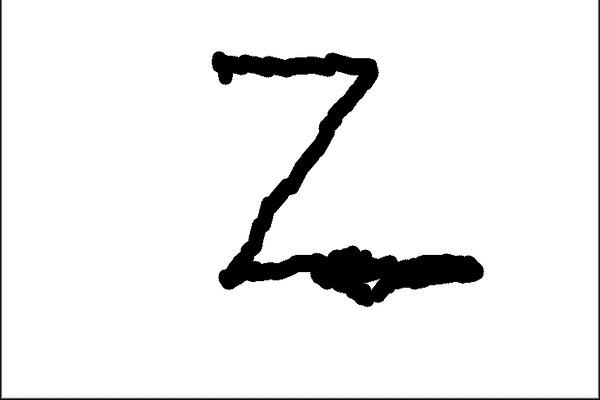Z: (199, 38, 491, 318)
